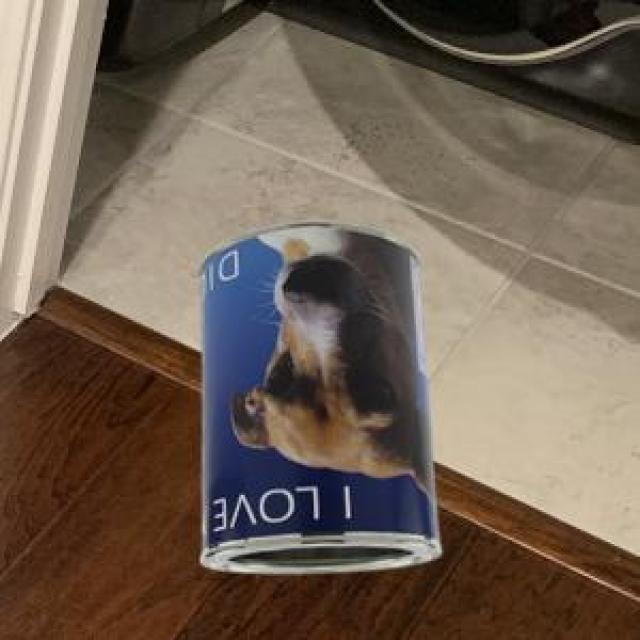Can: (197, 217, 438, 571)
